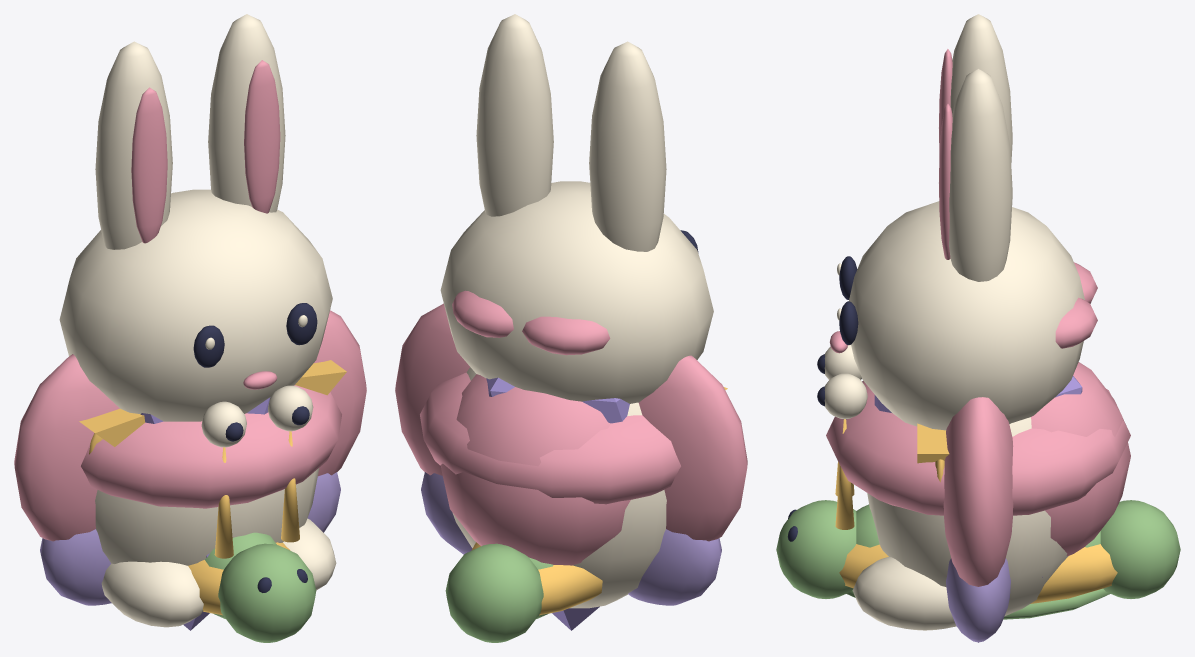
Rendered from toybox.glb.
3 views of the same model, side by side, from view 1: azimuth 30°, elevation 25°; view 2: azimuth 150°, elevation 25°; view 3: azimuth 270°, elevation 25° (orthographic).
Parts seen in each view (by area): view 1: rabbit, butterfly, mushroom, caterpillar, snail, star, gem; view 2: rabbit, butterfly, snail, mushroom, caterpillar, flower, gem; view 3: rabbit, mushroom, snail, butterfly, caterpillar, flower, leafeggs, star.
Boxes of the visible parts, bbox=[...] form: rabbit: bbox=[59, 14, 336, 627]; butterfly: bbox=[14, 310, 366, 605]; mushroom: bbox=[81, 385, 341, 508]; caterpillar: bbox=[205, 532, 316, 642]; snail: bbox=[188, 385, 313, 615]; star: bbox=[79, 360, 346, 446]; gem: bbox=[140, 397, 270, 630]; rabbit: bbox=[440, 14, 713, 608]; butterfly: bbox=[395, 303, 747, 605]; snail: bbox=[440, 374, 630, 615]; mushroom: bbox=[420, 372, 680, 504]; caterpillar: bbox=[445, 543, 553, 642]; flower: bbox=[452, 290, 610, 355]; gem: bbox=[486, 377, 629, 630]; rabbit: bbox=[829, 14, 1084, 630]; mushroom: bbox=[826, 381, 1130, 515]; snail: bbox=[817, 345, 1130, 603]; butterfly: bbox=[935, 397, 1013, 642]; caterpillar: bbox=[776, 500, 1180, 598]; flower: bbox=[1055, 262, 1097, 348]; leafeggs: bbox=[846, 588, 1110, 619]; star: bbox=[917, 423, 949, 463].
Size of the model in its own units: 1.06 by 1.74 by 1.06.
